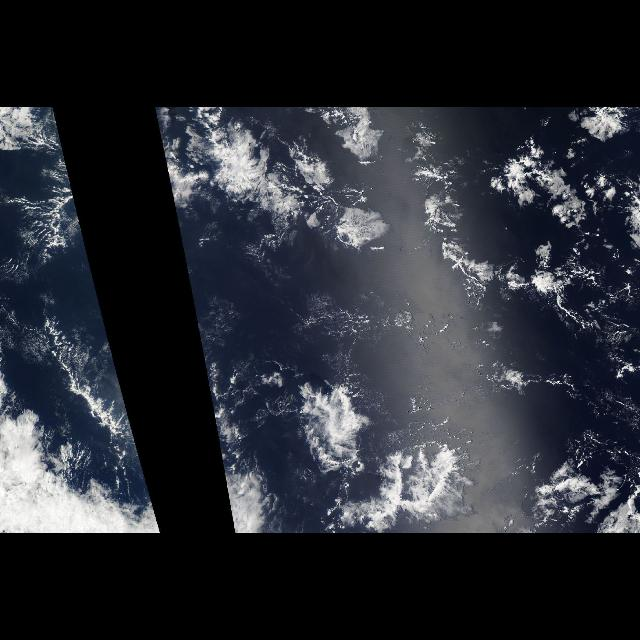Fish: (11, 294, 138, 494)
Flower: (154, 114, 638, 532)
